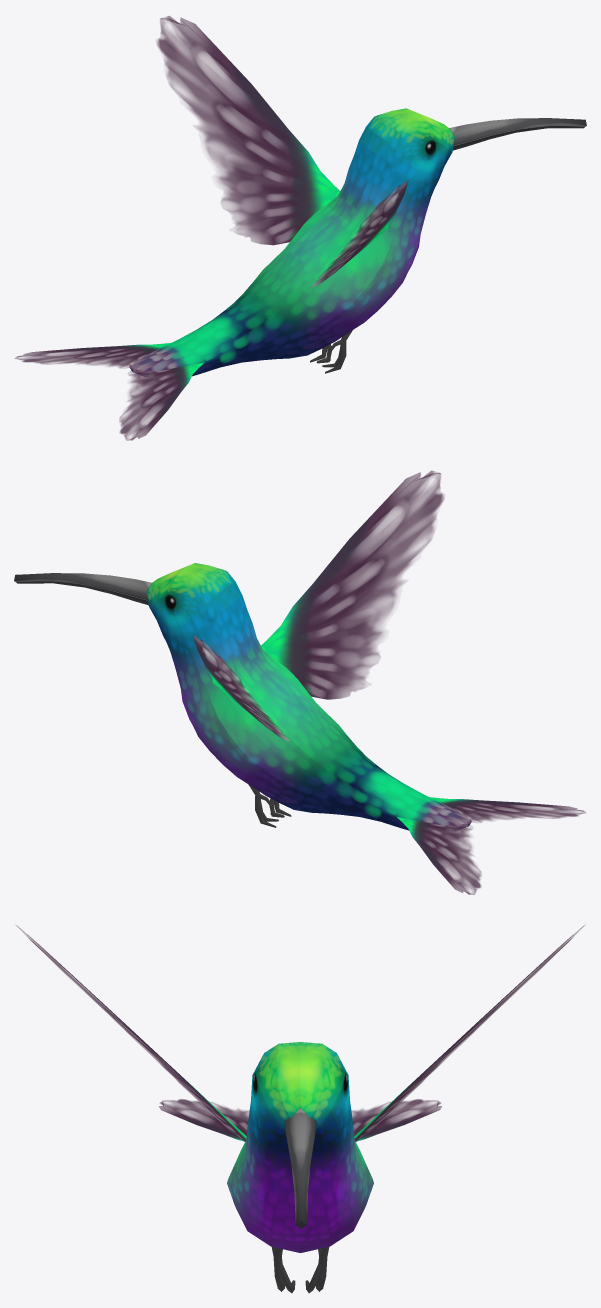
Rendered from stylized_hummingbird_low_poly.glb.
3 views of the same model, one above another, from view 1: azimuth 30°, elevation 25°; view 2: azimuth 150°, elevation 25°; view 3: azimuth 270°, elevation 25° (orthographic). The views are drawn at different scales.
Parts seen in each view (by area): view 1: Cube.001, Plane.003, Plane.004, NurbsPath.004; view 2: Cube.001, Plane.003, Plane.004, NurbsPath.004; view 3: Cube.001, Plane.004, Plane.003, NurbsPath.004, NurbsPath.005.
Part boxes in pixels (bbox=[...]): Cube.001: bbox=[129, 108, 454, 376]; Plane.003: bbox=[156, 16, 408, 287]; Plane.004: bbox=[14, 342, 204, 440]; NurbsPath.004: bbox=[449, 118, 586, 150]; Cube.001: bbox=[146, 563, 471, 830]; Plane.003: bbox=[192, 470, 444, 741]; Plane.004: bbox=[396, 797, 585, 894]; NurbsPath.004: bbox=[14, 573, 151, 605]; Cube.001: bbox=[227, 1042, 373, 1252]; Plane.004: bbox=[159, 1099, 441, 1141]; Plane.003: bbox=[16, 925, 584, 1141]; NurbsPath.004: bbox=[284, 1108, 316, 1228]; NurbsPath.005: bbox=[271, 1247, 329, 1291].
Bounding box in the file's own units: 13.99 × 7.16 × 10.94.
Materials: 4 (3 with a texture image).
